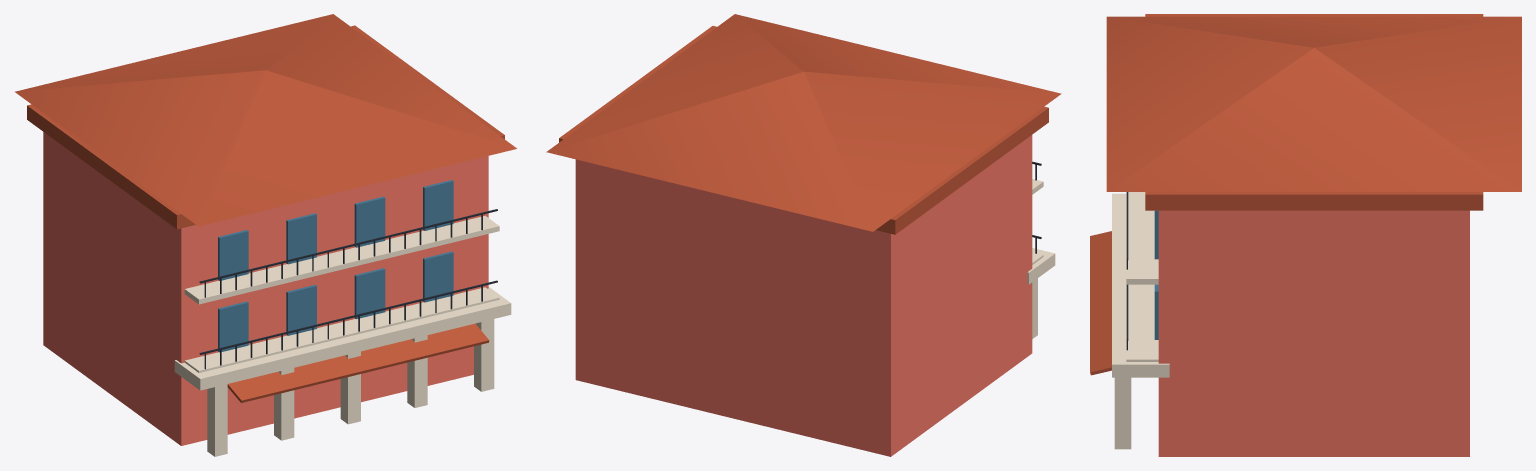
The model's file is building_havana.glb.
3 renders of one model, left to right at view 1: azimuth 30°, elevation 25°; view 2: azimuth 150°, elevation 25°; view 3: azimuth 270°, elevation 25°, orthographic. The views are drawn at different scales.
Visible parts, largest first — view 1: building_havana; view 2: building_havana; view 3: building_havana.
Boxes of the visible parts, x1,y1,x2,y2 form: building_havana: [14, 14, 516, 456]; building_havana: [546, 14, 1061, 456]; building_havana: [1090, 14, 1521, 456].
Size of the model in its own units: 19.2 by 16.1 by 19.42.
